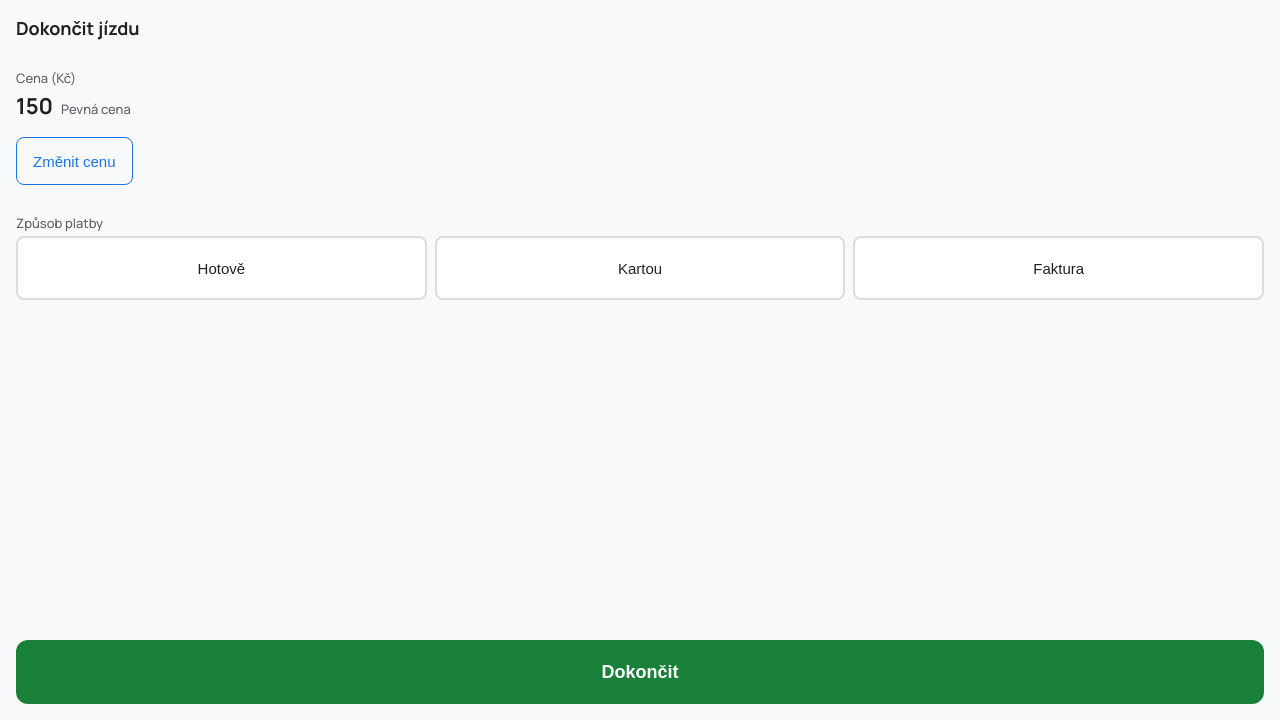
Test case: CompletePage › Fixed: price is locked and the keypad is not shown until "Změnit cenu"
expect the button "7" is not shown: met
Click the button "Změnit cenu" at coordinates (74, 161), box [16,137,132,185]
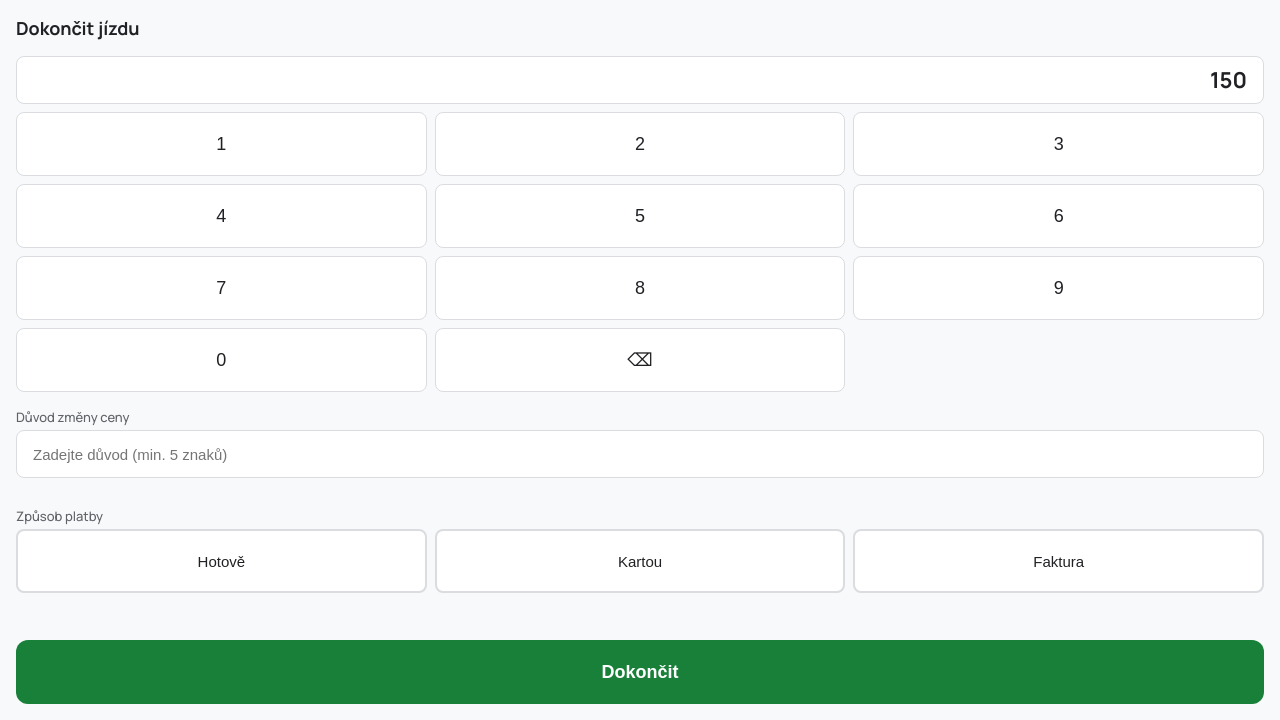
expect the button "7" is shown: met, box [16,256,427,320]
